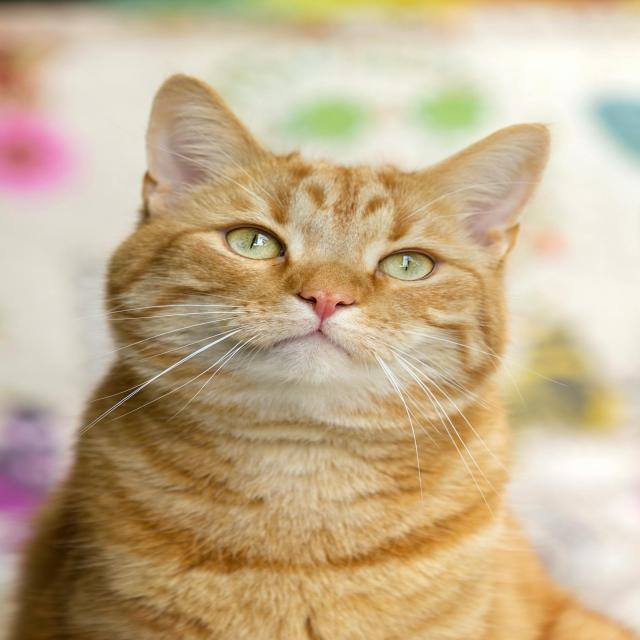Cat: (5, 71, 637, 638)
